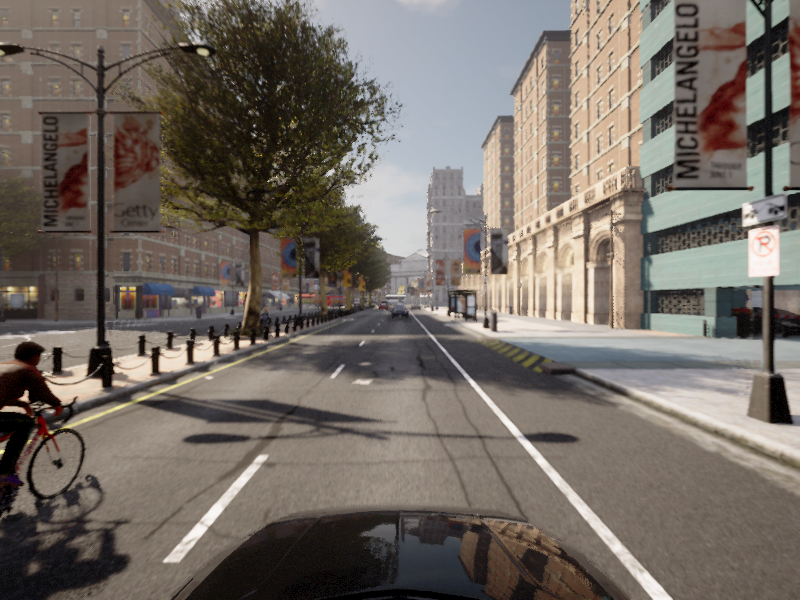vehicle: (1, 336, 111, 588), (256, 304, 273, 324), (246, 304, 262, 320), (389, 306, 409, 318)
